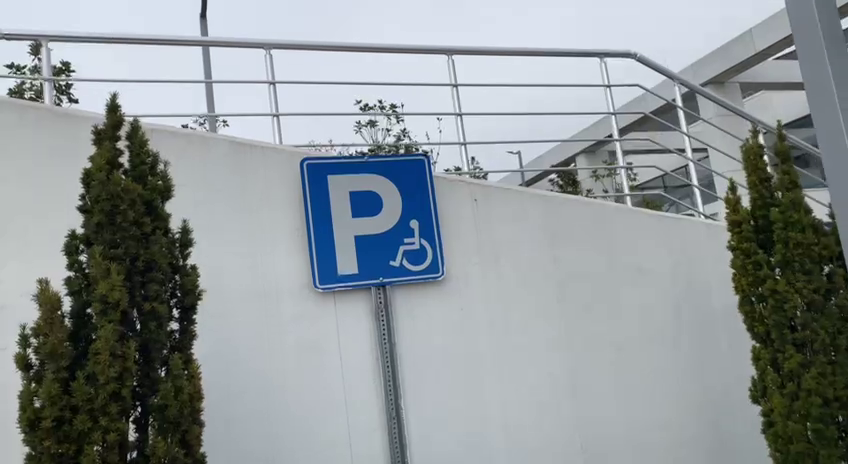parking: (300, 153, 449, 291)
